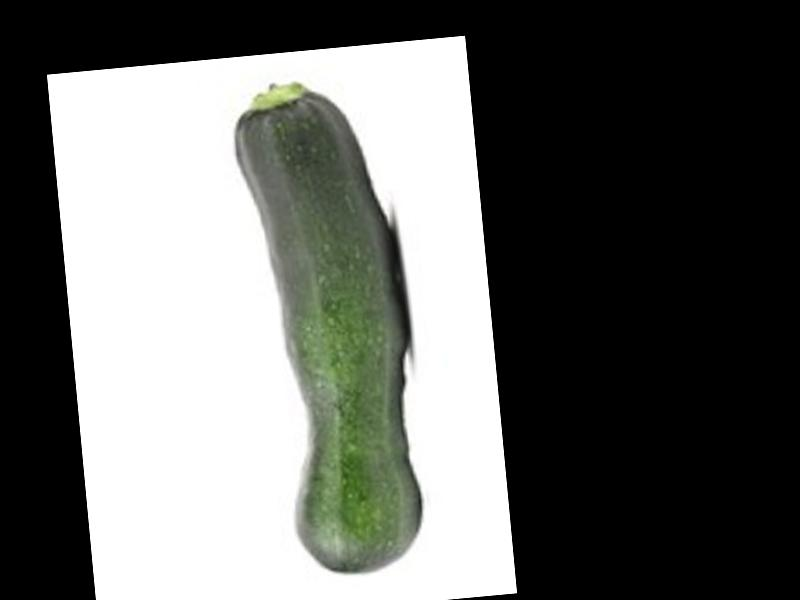Cucumber: (228, 72, 429, 580)
